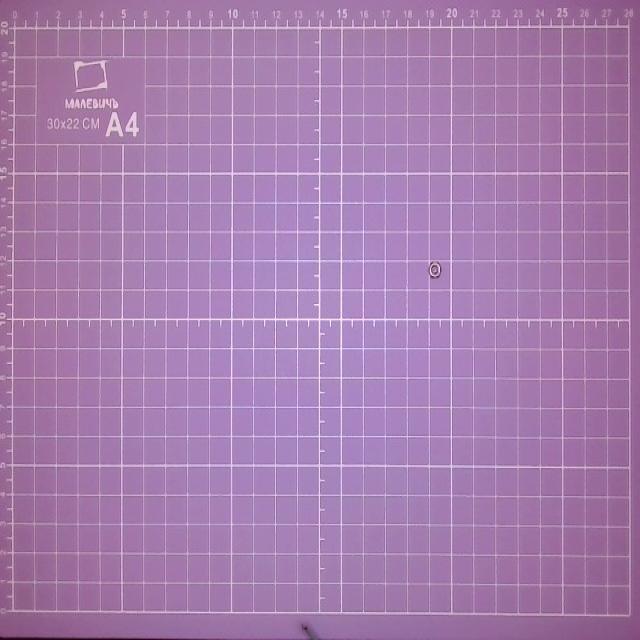screw_M3: (423, 252, 447, 283)
